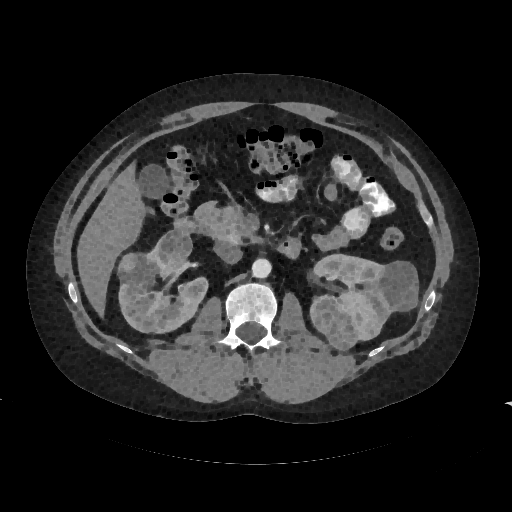Lesion: (374, 259, 423, 311), (110, 253, 158, 290)
